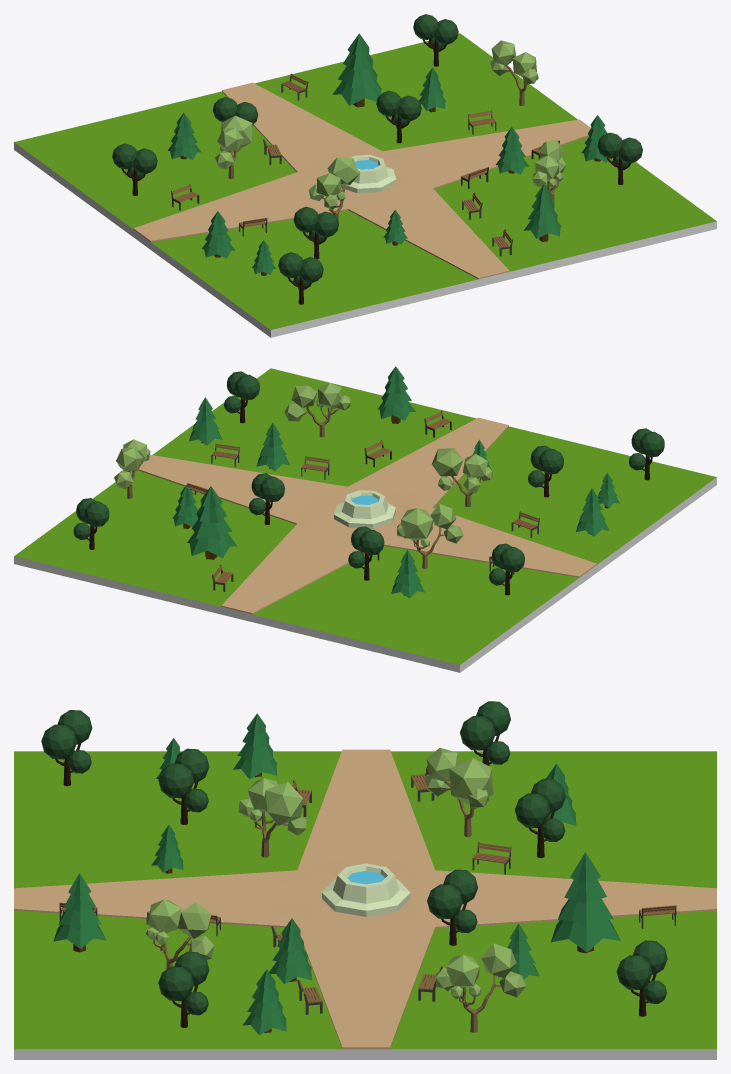
File: Park 3x3.gltf
The picture shows the model from 3 angles, top to bottom: view 1: azimuth 30°, elevation 25°; view 2: azimuth 150°, elevation 25°; view 3: azimuth 270°, elevation 25°; orthographic projection. The views are drawn at different scales.
Visible parts, largest first — view 1: BAZA 2x2.010, jelke.005, DRVO 3.006, kluice.004, Tree 3.006, Tree 4.015, Tree 4.013, Tree 4.014; view 2: BAZA 2x2.010, jelke.005, DRVO 3.006, kluice.004, Tree 4.013, Tree 3.006, Tree 4.014, Tree 4.015; view 3: BAZA 2x2.010, DRVO 3.006, jelke.005, Tree 4.015, Tree 4.013, Tree 3.006, kluice.004, Tree 4.014.
Boxes of the visible parts, x1=… form: BAZA 2x2.010: x1=14, y1=33, x2=716, y2=337; jelke.005: x1=168, y1=33, x2=607, y2=275; DRVO 3.006: x1=112, y1=14, x2=642, y2=304; kluice.004: x1=171, y1=73, x2=559, y2=256; Tree 3.006: x1=308, y1=157, x2=359, y2=221; Tree 4.015: x1=490, y1=40, x2=538, y2=105; Tree 4.013: x1=215, y1=115, x2=252, y2=178; Tree 4.014: x1=532, y1=140, x2=566, y2=203; BAZA 2x2.010: x1=14, y1=368, x2=716, y2=672; jelke.005: x1=172, y1=366, x2=619, y2=598; DRVO 3.006: x1=73, y1=371, x2=664, y2=595; kluice.004: x1=187, y1=411, x2=539, y2=591; Tree 4.013: x1=397, y1=504, x2=463, y2=568; Tree 3.006: x1=431, y1=448, x2=492, y2=507; Tree 4.014: x1=284, y1=382, x2=350, y2=437; Tree 4.015: x1=114, y1=439, x2=150, y2=498; BAZA 2x2.010: x1=14, y1=749, x2=716, y2=1059; DRVO 3.006: x1=41, y1=701, x2=667, y2=1027; jelke.005: x1=53, y1=713, x2=620, y2=1035; Tree 4.015: x1=436, y1=943, x2=526, y2=1032; Tree 4.013: x1=425, y1=747, x2=493, y2=837; Tree 3.006: x1=238, y1=778, x2=306, y2=857; kluice.004: x1=59, y1=765, x2=676, y2=1014; Tree 4.014: x1=146, y1=899, x2=214, y2=969.
Bounding box in the file's own units: 6 × 1.02 × 5.99.
